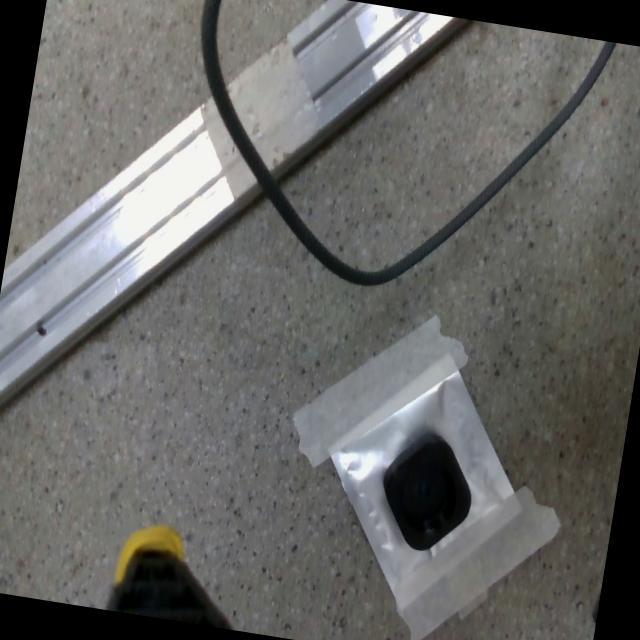cell: (374, 428, 481, 556)
